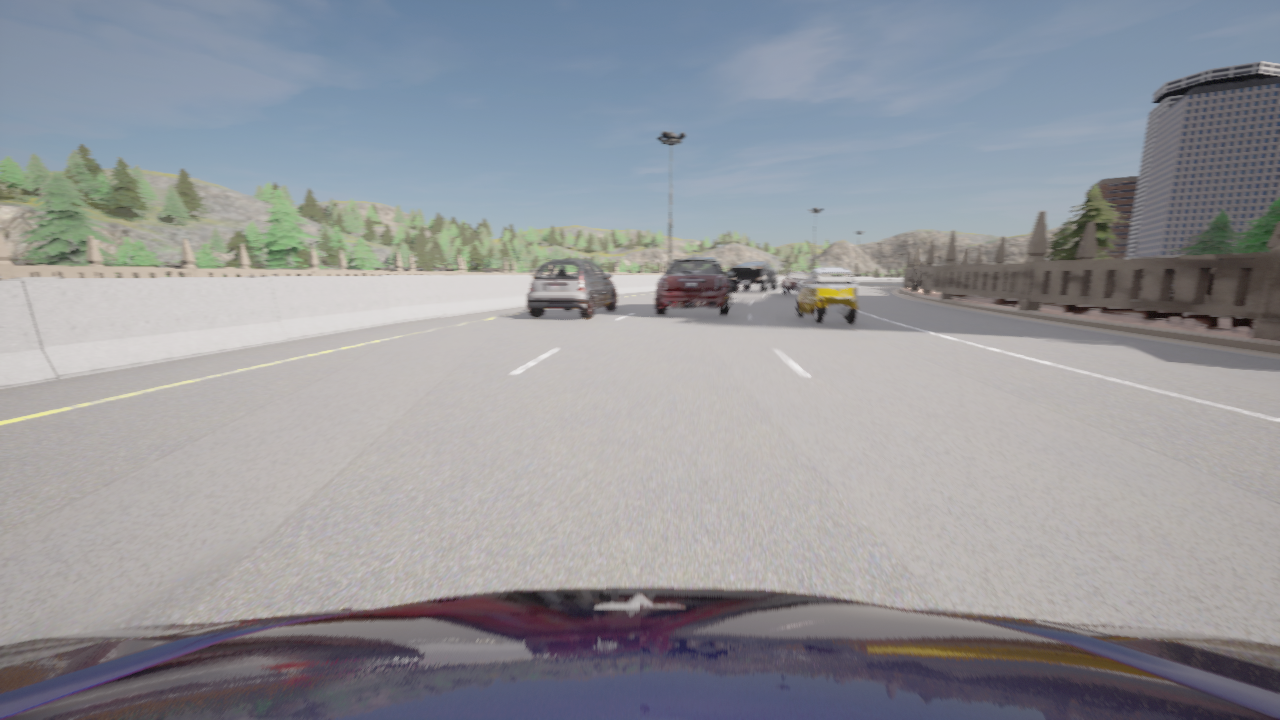cyclist: (0, 588, 1279, 719), (527, 260, 616, 318), (655, 254, 733, 316), (796, 267, 857, 324), (730, 261, 778, 292), (781, 272, 809, 294)
